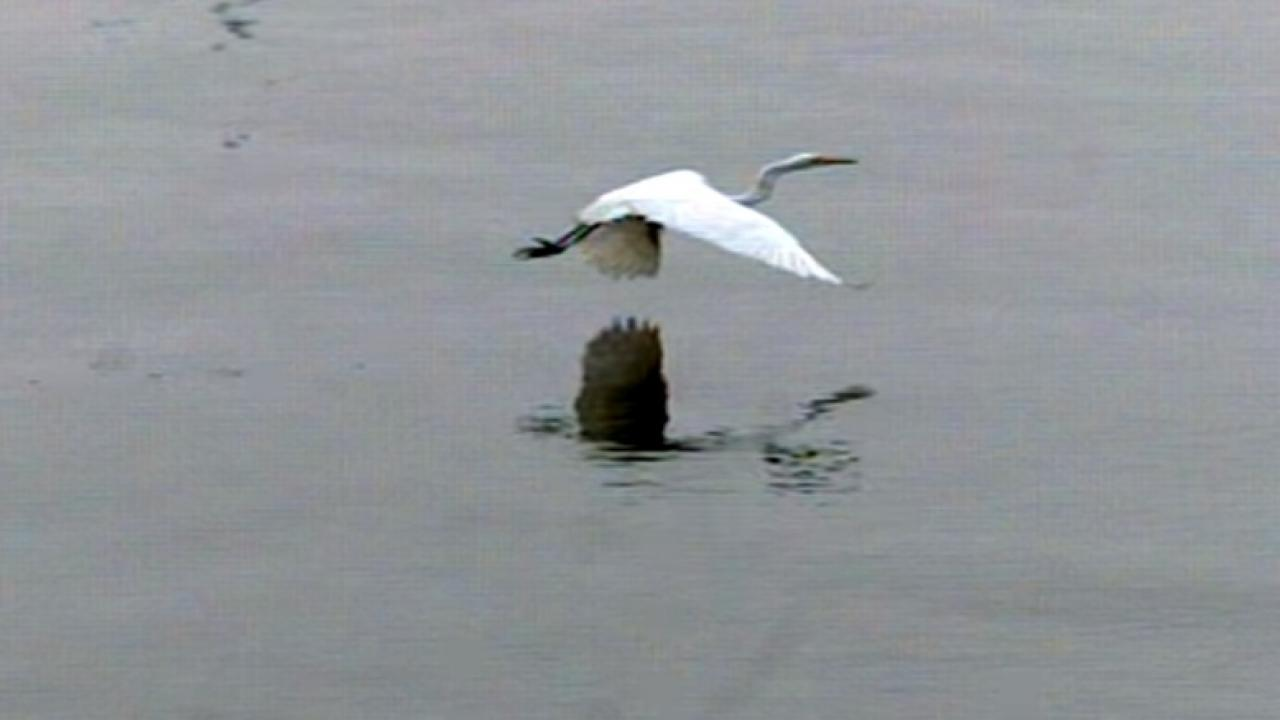Bird: (500, 143, 869, 300)
